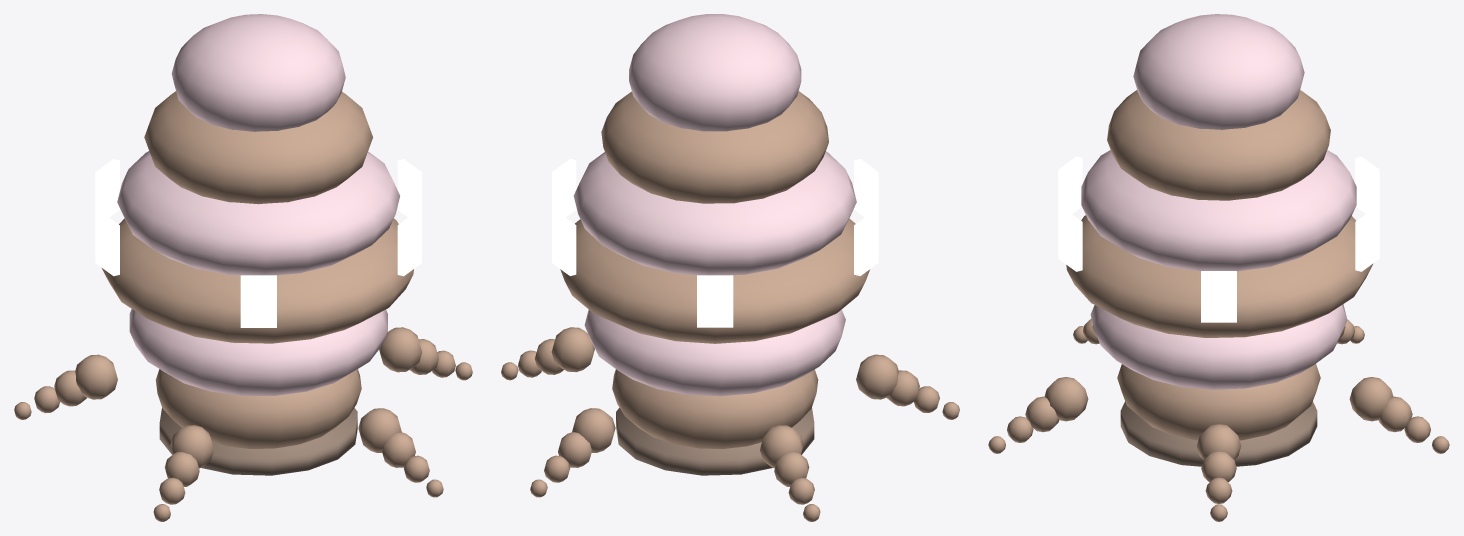
The model's file is egg_blossom_02.glb.
The picture shows the model from 3 angles, left to right: view 1: azimuth 30°, elevation 25°; view 2: azimuth 150°, elevation 25°; view 3: azimuth 270°, elevation 25°; orthographic projection.
Visible parts, largest first — view 1: ball; view 2: ball; view 3: ball.
Boxes of the visible parts, x1,y1,x2,y2 form: ball: [14, 14, 472, 521]; ball: [501, 14, 959, 521]; ball: [988, 14, 1449, 521].
Bounding box in the file's own units: 0.9843 × 0.99 × 1.03.
